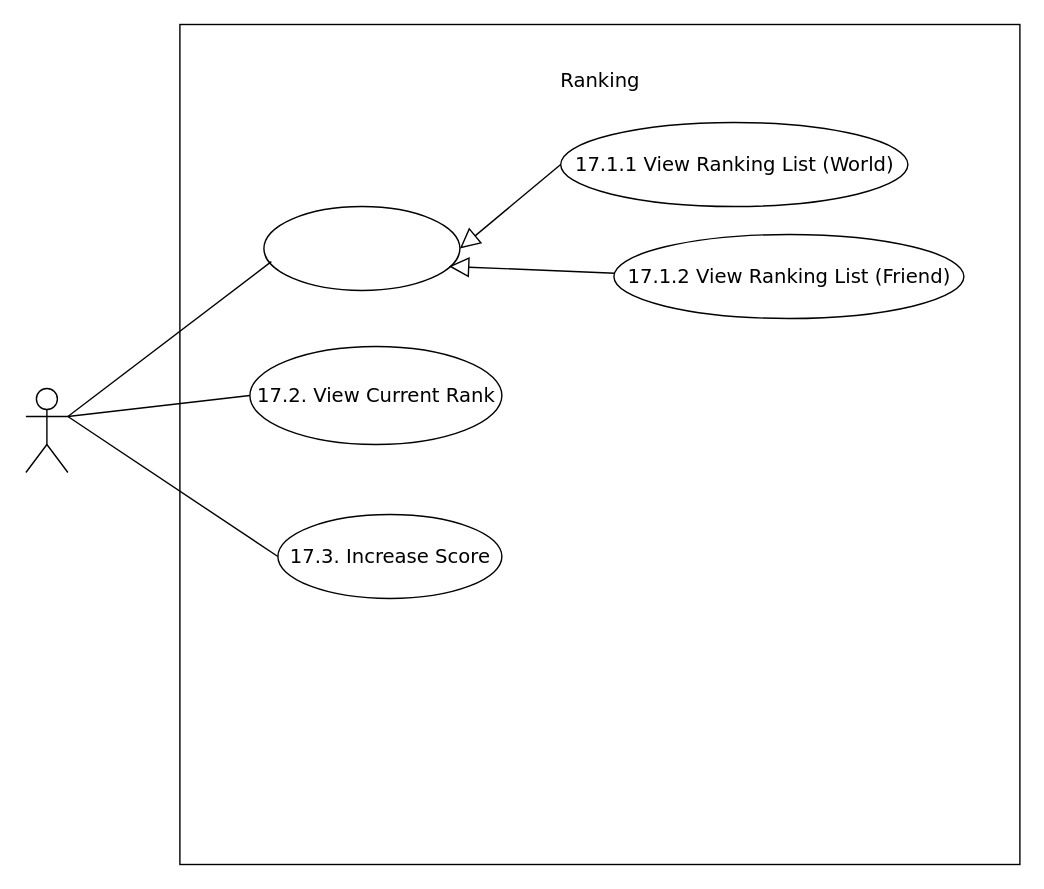
The diagram is 1044 pixels wide and 889 high, and some of its shapes have lost their labels. The box of each missing label's shape, as (x1, y1, x2, y2) in pixels:
17.1. View Ranking: (262, 205, 460, 290)
User: (24, 387, 68, 472)
